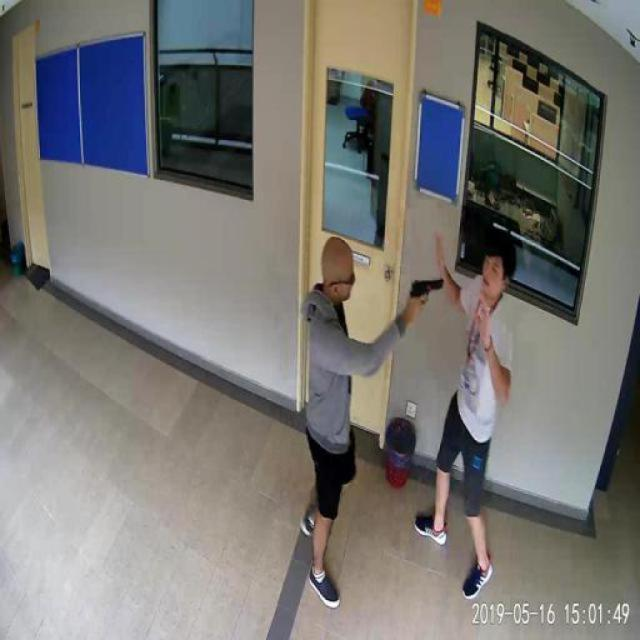pistol: (408, 275, 442, 310)
